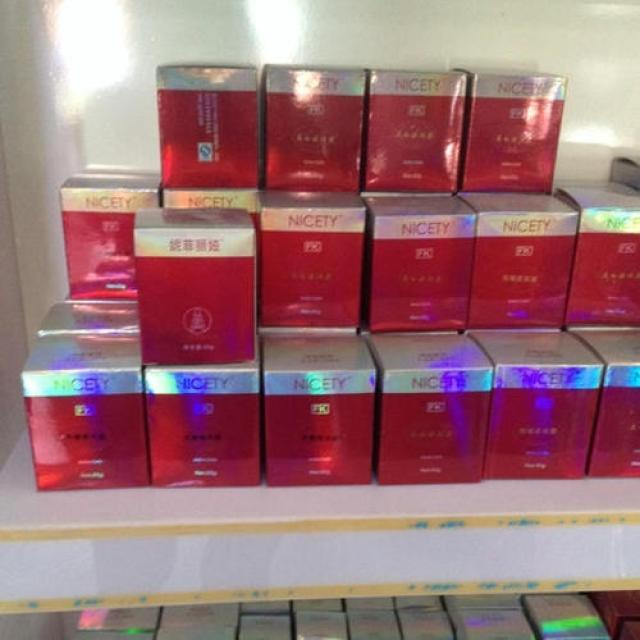box: (465, 330, 605, 479), (22, 333, 150, 489), (365, 330, 493, 485), (134, 209, 256, 366), (454, 192, 579, 332), (262, 333, 376, 485), (360, 191, 476, 333), (257, 191, 366, 337), (142, 358, 259, 486), (453, 68, 566, 195), (60, 161, 161, 301), (261, 65, 365, 191), (156, 65, 260, 189), (365, 69, 467, 191), (556, 182, 640, 330), (568, 329, 640, 477), (164, 187, 259, 233), (442, 593, 536, 639), (520, 594, 612, 639), (37, 301, 141, 335), (156, 603, 239, 639), (74, 608, 164, 639), (393, 598, 457, 639), (588, 591, 640, 639), (343, 598, 403, 639), (292, 599, 348, 639), (237, 602, 293, 639), (613, 156, 640, 189)
